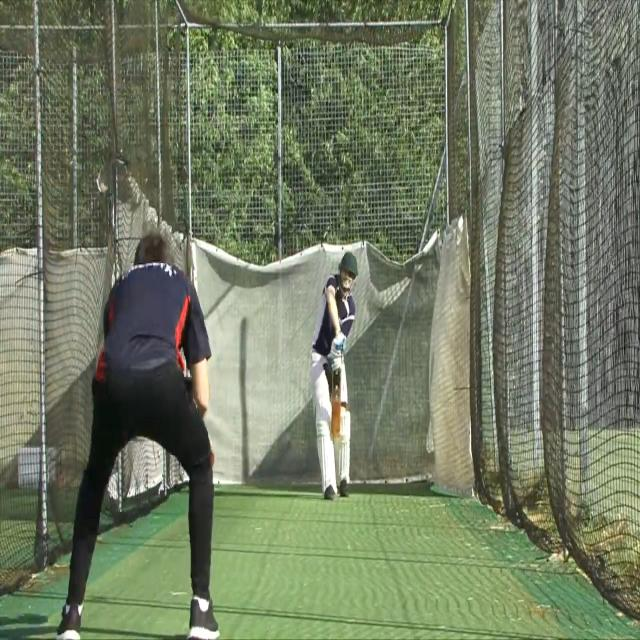batsman: (308, 248, 359, 502)
